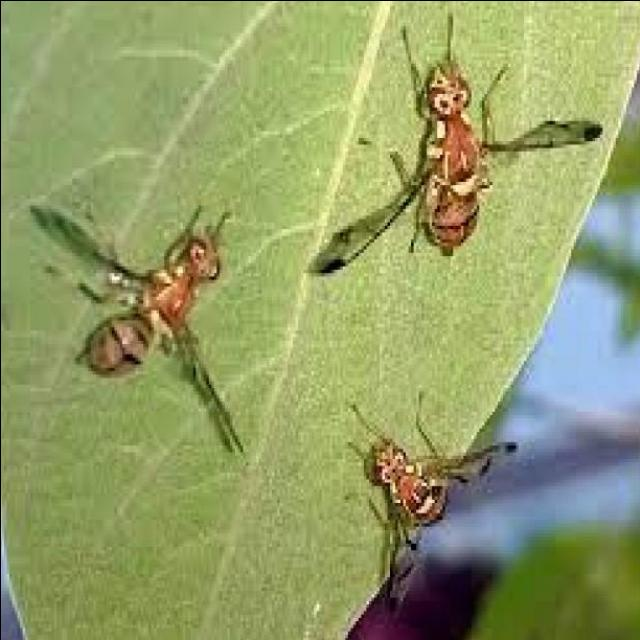Fruit fly: (298, 0, 609, 284), (17, 192, 248, 463), (337, 376, 528, 617)
